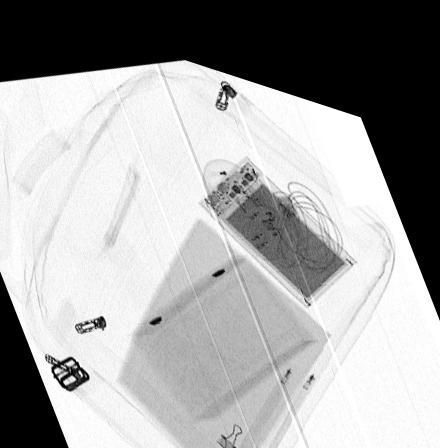Powerbank: (197, 140, 357, 289)
